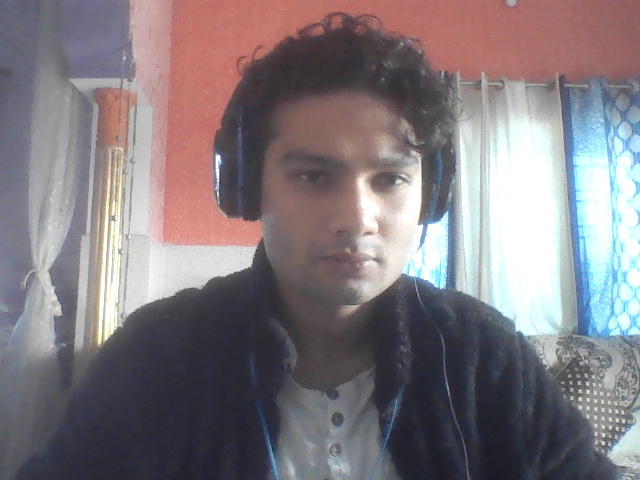real: (226, 17, 450, 334)
